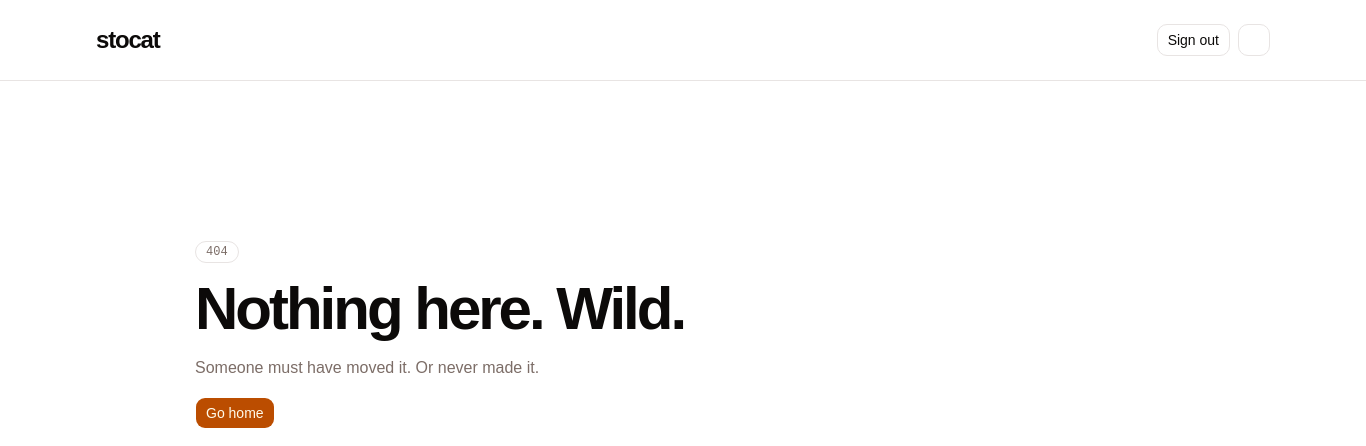
routing › returns home from an unknown route
The width and height of the screenshot is (1366, 446).
Expected: the heading "Nothing here. Wild." is shown, [195, 279, 684, 339]
Expected: the text "404" is shown, [195, 241, 239, 263]
Click the link "Go home".
click(235, 413)  # box [195, 397, 275, 429]
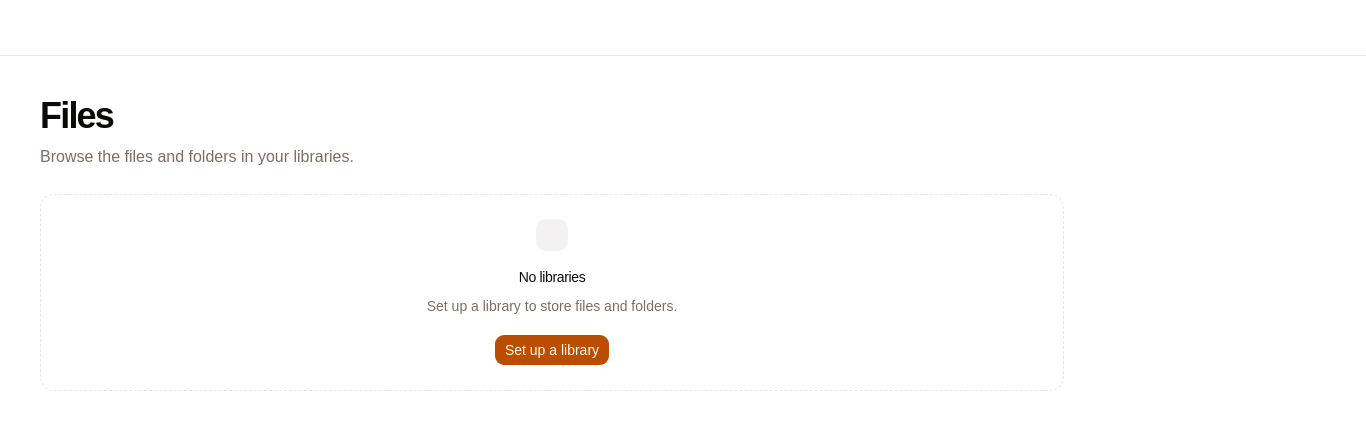
Result: the heading "Files" is shown at [40, 95, 113, 136]
